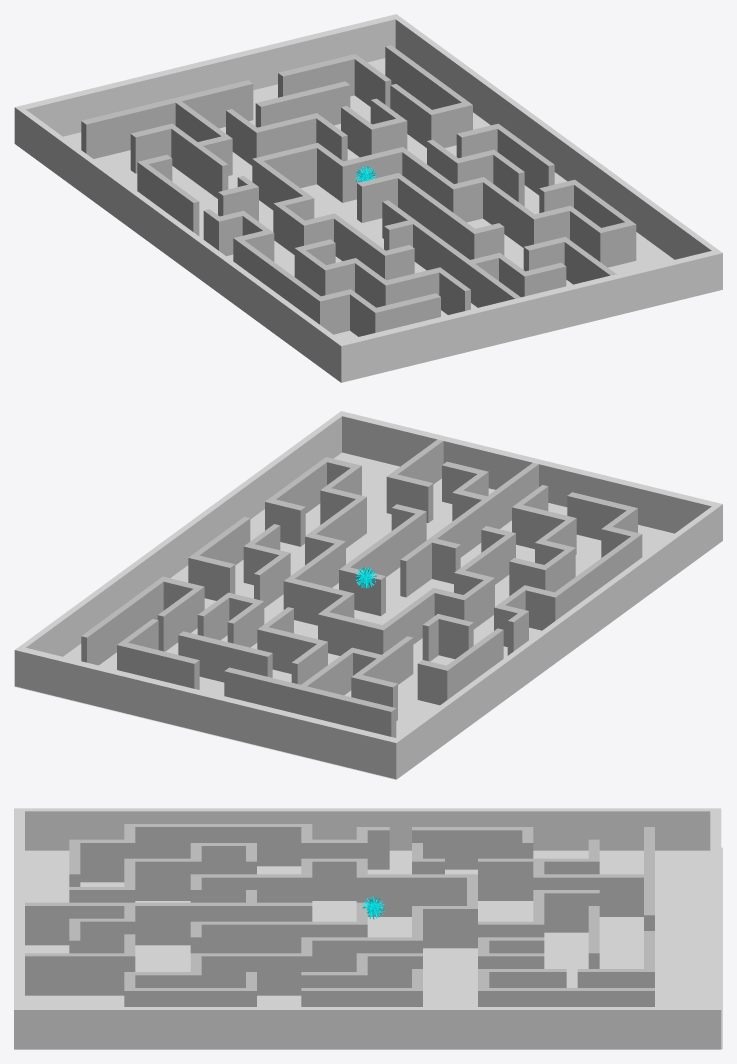
Rendered from maze final.fbx.
3 views of the same model, one above another, from view 1: azimuth 30°, elevation 25°; view 2: azimuth 150°, elevation 25°; view 3: azimuth 270°, elevation 25° (orthographic). The views are drawn at different scales.
Visible parts, largest first — view 1: InnerMaze, Walls, Floor; view 2: InnerMaze, Walls, Floor; view 3: InnerMaze, Walls, Floor.
Boxes of the visible parts, <box> form: InnerMaze: <box>81,45,636,336</box>; Walls: <box>14,14,722,382</box>; Floor: <box>63,58,674,340</box>; InnerMaze: <box>81,439,642,737</box>; Walls: <box>14,411,722,779</box>; Floor: <box>14,452,674,779</box>; InnerMaze: <box>25,824,654,1006</box>; Walls: <box>14,808,721,1049</box>; Floor: <box>25,847,722,1049</box>.
Size of the model in its own units: 12421 by 1468 by 18443.
